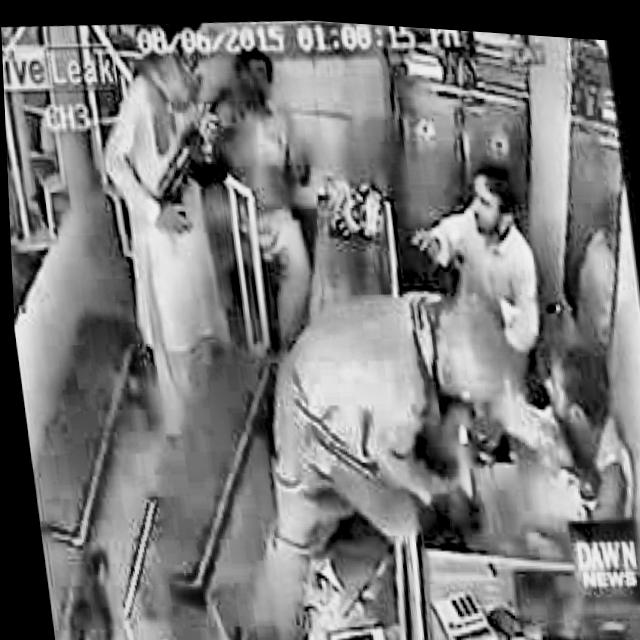robbery: (209, 255, 640, 640), (86, 12, 273, 455), (394, 142, 553, 363)
